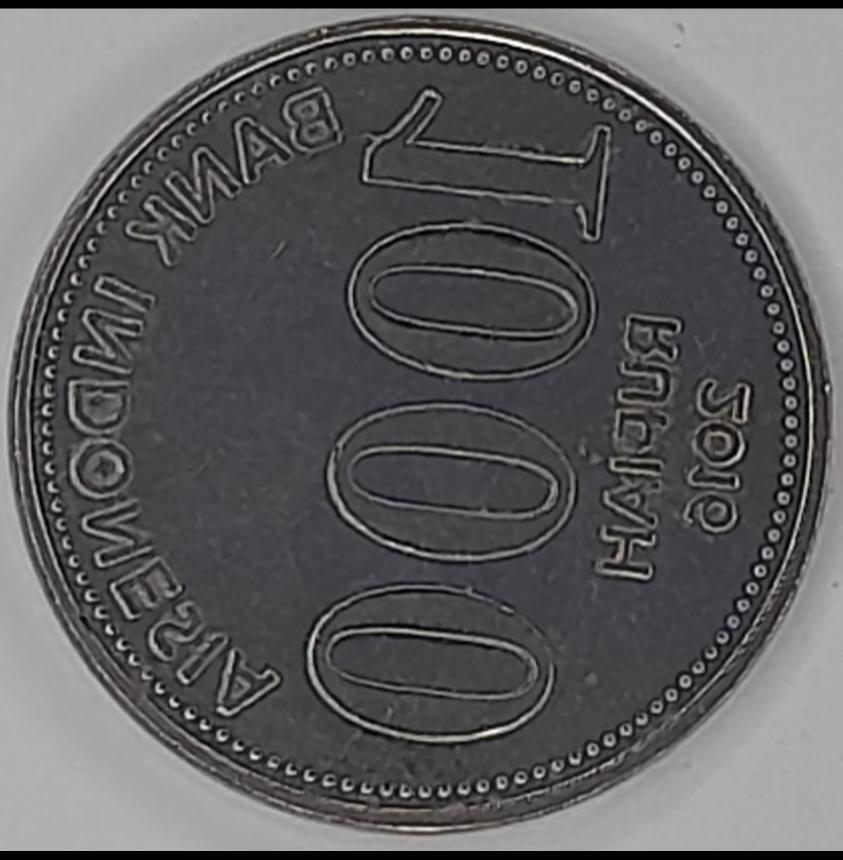coin_1000_e2016: (14, 17, 832, 860)
